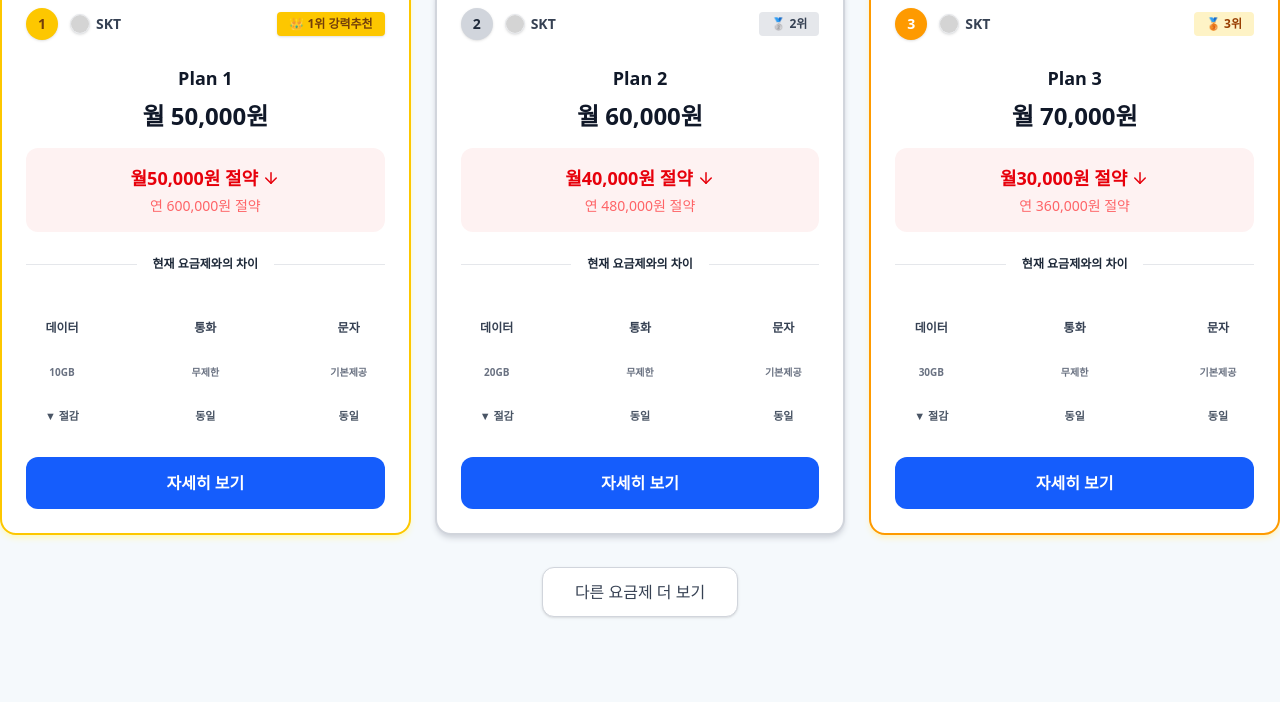
Test case: RecommendationList component › shows more recommendations when button is clicked (local expansion)
Click the button "다른 요금제 더 보기" at (640, 592), box top-left (542, 566), bottom-right (738, 616)
(page scrolled)
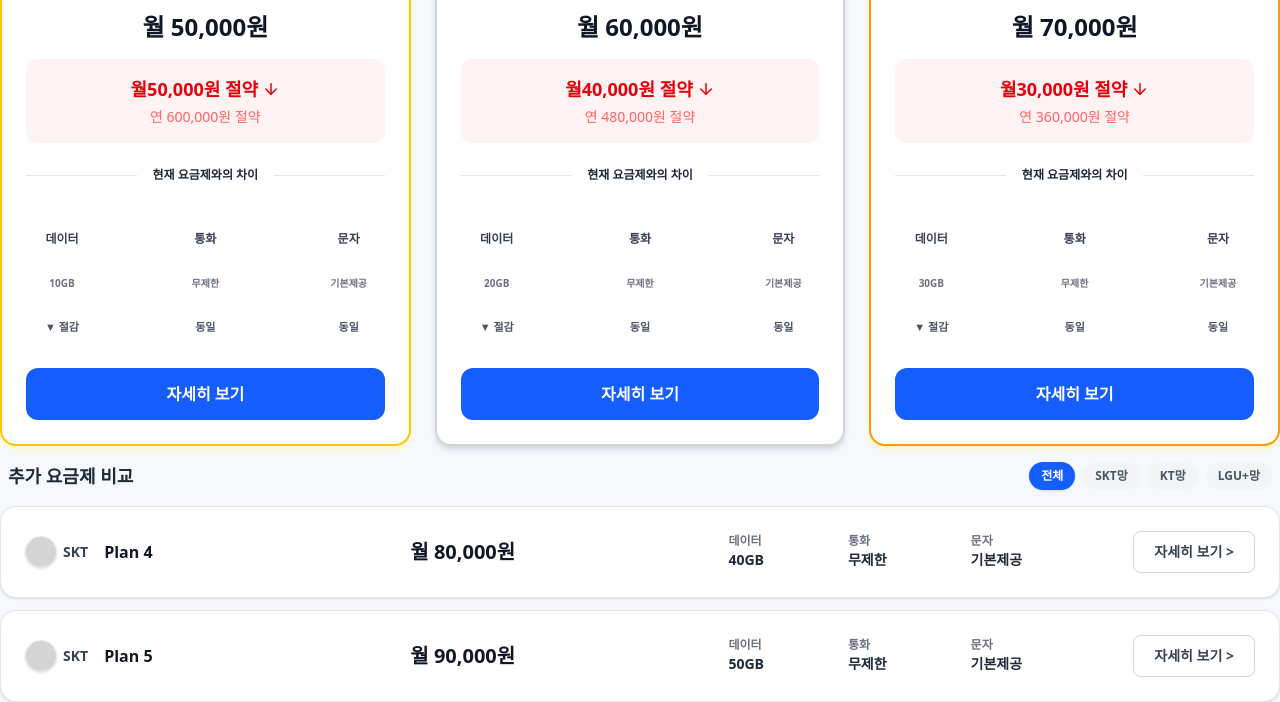
Now the heading "Plan 4" is shown, box top-left (104, 540), bottom-right (152, 564)
Now the heading "Plan 5" is shown, box top-left (104, 644), bottom-right (152, 668)
